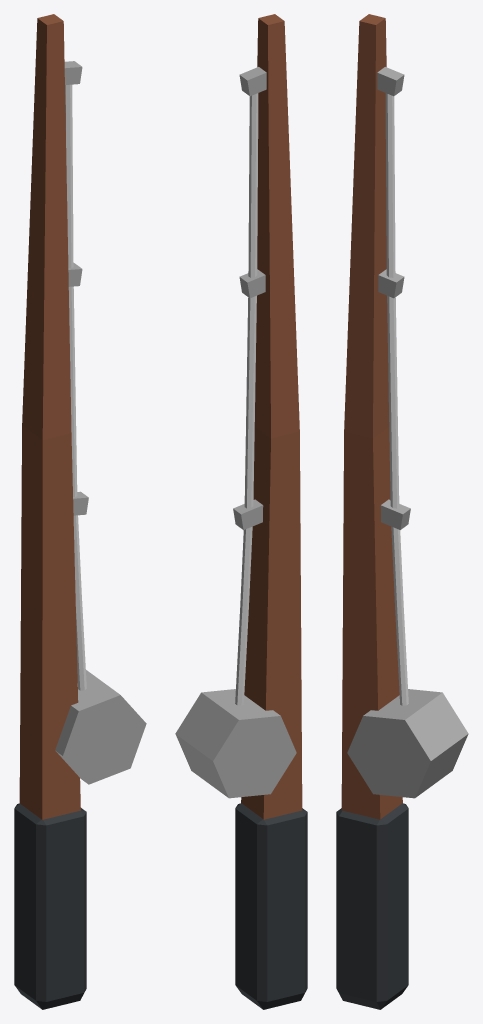
Rendered from rod.fbx.
3 renders of one model, left to right at view 1: azimuth 30°, elevation 25°; view 2: azimuth 210°, elevation 25°; view 3: azimuth 330°, elevation 25°, orthographic.
Parts seen in each view (by area): view 1: Куб, Куб.004, Цилиндр, Цилиндр.001, Куб.003; view 2: Куб, Куб.004, Цилиндр, Цилиндр.001, Куб.001, Куб.003, Куб.002; view 3: Куб, Куб.004, Цилиндр, Цилиндр.001, Куб.001, Куб.003, Куб.002.
Boxes of the visible parts, bbox=[...] form: Куб: bbox=[19, 14, 80, 820]; Куб.004: bbox=[14, 803, 86, 1009]; Цилиндр: bbox=[55, 670, 146, 784]; Цилиндр.001: bbox=[65, 84, 86, 690]; Куб.003: bbox=[64, 61, 82, 84]; Куб: bbox=[241, 14, 302, 819]; Куб.004: bbox=[235, 803, 307, 1009]; Цилиндр: bbox=[175, 689, 296, 798]; Цилиндр.001: bbox=[235, 93, 258, 705]; Куб.001: bbox=[233, 499, 263, 529]; Куб.003: bbox=[239, 67, 266, 96]; Куб.002: bbox=[239, 269, 265, 298]; Куб: bbox=[341, 14, 402, 819]; Куб.004: bbox=[336, 803, 408, 1009]; Цилиндр: bbox=[347, 689, 468, 798]; Цилиндр.001: bbox=[385, 93, 408, 705]; Куб.001: bbox=[380, 499, 410, 529]; Куб.003: bbox=[377, 67, 404, 96]; Куб.002: bbox=[378, 269, 404, 298].
Bounding box in the file's own units: 58.02 × 528 × 36.94.
